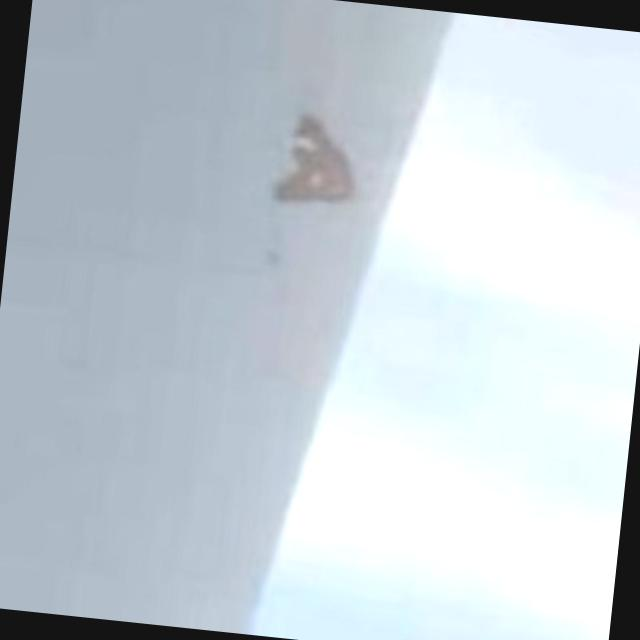surface_peeling: (266, 107, 367, 215)
